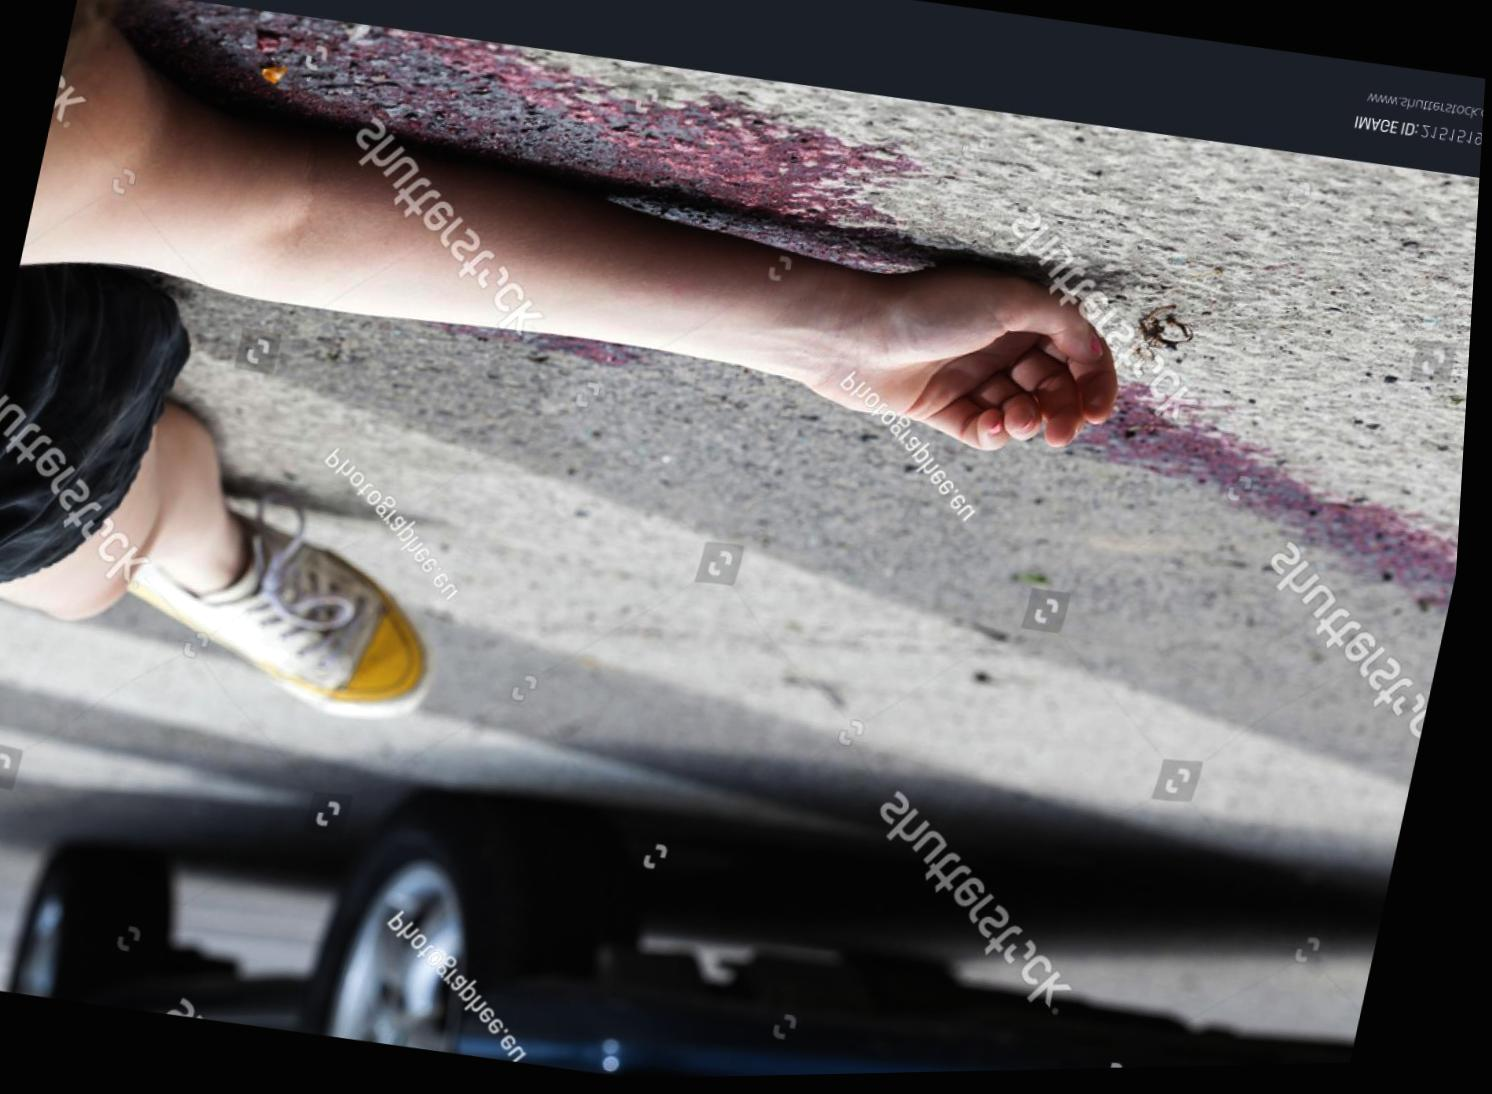Fire: (117, 0, 938, 273), (1089, 389, 1465, 617), (524, 335, 675, 367), (444, 326, 520, 342)
